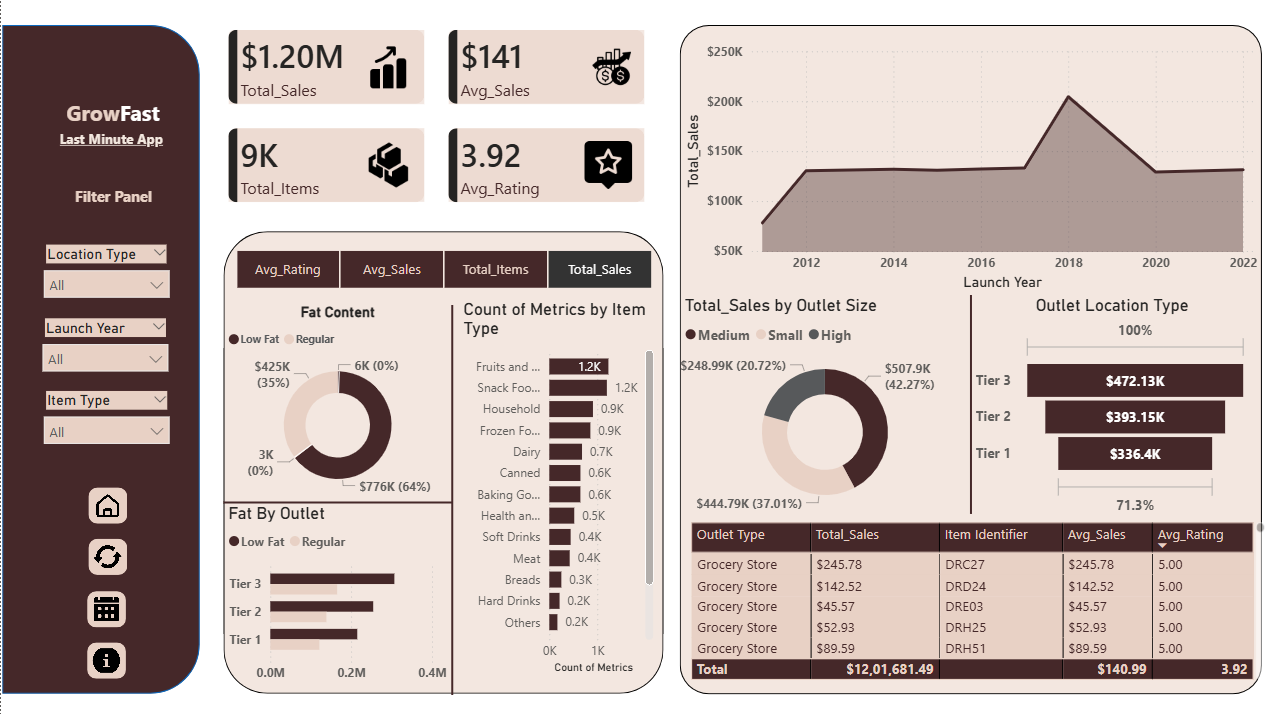

The dashboard page shown, as its layout file describes it:
{"tool":"powerbi","page":{"name":"Page 1","canvas":[1280,720],"ordinal":0},"visuals":[{"type":"shape","box":[1.2,25,197.5,668.8],"z":0},{"type":"shape","box":[679.2,24.9,582.2,669.3],"z":2000},{"type":"textbox","box":[53.5,91.9,116.6,57.6],"z":3000},{"type":"textbox","box":[53.5,124.9,129,49.4],"z":4000},{"type":"textbox","box":[56.3,181.1,112.5,49.4],"z":5000},{"type":"slicer","fields":{"Values":["Grofast.Location Type"]},"box":[32.5,240,146,64],"z":6000},{"type":"shape","box":[222.5,231.2,440,462.5],"z":7000},{"type":"actionButton","box":[87.5,538.8,38.8,36.2],"z":8000},{"type":"slicer","fields":{"Values":["Grofast.Launch Year"]},"box":[31.2,313.8,146.2,63.8],"z":9000},{"type":"slicer","fields":{"Values":["Grofast.Item Type"]},"box":[32.5,386.2,146.2,63.8],"z":10000},{"type":"actionButton","box":[86.2,591.2,38.8,36.2],"z":11000},{"type":"actionButton","box":[86.2,642.5,38.8,36.2],"z":12000},{"type":"cardVisual","fields":{"Data":["Measure_Table.Total_Sales","Measure_Table.Avg_Sales","Measure_Table.Total_Items","Measure_Table.Avg_Rating"]},"box":[222.7,24.9,451.6,206.5],"z":13000},{"type":"donutChart","title":"Fat Content","fields":{"Y":["CountNonNull(Grofast.Item Fat Content)","Measure_Table.Total_Sales"],"Category":["Grofast.Item Fat Content"]},"box":[222.5,303.8,228.8,198.8],"z":14000},{"type":"shape","box":[222.5,487.5,228.8,30],"z":15000},{"type":"shape","box":[445,305,12.5,390],"z":16000},{"type":"barChart","fields":{"Y":["CountNonNull(Grofast.Item Type)"],"Category":["Grofast.Item Type"]},"box":[457.5,298.8,200,380],"z":17000},{"type":"areaChart","title":"Outlet Establishment Year","fields":{"Category":["Grofast.Launch Year"],"Y":["Measure_Table.Total_Sales"]},"box":[678.8,37.5,582.5,257.5],"z":18000},{"type":"donutChart","fields":{"Y":["Measure_Table.Total_Sales"],"Category":["Grofast.Outlet Size"]},"box":[679,295,290.8,225.4],"z":19000},{"type":"funnel","title":"Outlet Location Type","fields":{"Category":["Grofast.Location Type"],"Y":["Measure_Table.Total_Sales"]},"box":[970.3,294.8,282.4,225.2],"z":20000},{"type":"shape","box":[964.1,294.8,12.4,218.9],"z":21000},{"type":"tableEx","fields":{"Values":["Grofast.Outlet Type","Measure_Table.Total_Sales","Grofast.Item Identifier","Measure_Table.Avg_Sales","Measure_Table.Avg_Rating"]},"box":[683.8,517.5,585,167.5],"z":22000},{"type":"slicer","fields":{"Values":["Metrix.Metrix"]},"box":[210,243.8,463.8,51.2],"z":23000},{"type":"clusteredBarChart","title":"Fat By Outlet","fields":{"Category":["Grofast.Location Type"],"Y":["Sum(Grofast.Sales)"],"Series":["Grofast.Item Fat Content"]},"box":[222.5,502.5,228.8,188.8],"z":24000},{"type":"actionButton","box":[87.5,487.5,38.8,36.2],"z":25000}]}

Visuals, with their boxes in screenshot pixels (x1, y1, x2, y2), scaled from the page's 1280x720 canvas onto the 1280x714 screenshot:
shape: <region>1, 25, 199, 688</region>
shape: <region>679, 25, 1261, 688</region>
textbox: <region>54, 91, 170, 148</region>
textbox: <region>54, 124, 182, 173</region>
textbox: <region>56, 180, 169, 229</region>
slicer - Grofast.Location Type: <region>32, 238, 178, 301</region>
shape: <region>222, 229, 662, 688</region>
actionButton: <region>88, 534, 126, 570</region>
slicer - Grofast.Launch Year: <region>31, 311, 177, 374</region>
slicer - Grofast.Item Type: <region>32, 383, 179, 446</region>
actionButton: <region>86, 586, 125, 622</region>
actionButton: <region>86, 637, 125, 673</region>
cardVisual - Measure_Table.Total_Sales x Measure_Table.Avg_Sales: <region>223, 25, 674, 229</region>
"Fat Content" donutChart: <region>222, 301, 451, 498</region>
shape: <region>222, 483, 451, 513</region>
shape: <region>445, 302, 458, 689</region>
barChart - CountNonNull(Grofast.Item Type) x Grofast.Item Type: <region>458, 296, 658, 673</region>
"Outlet Establishment Year" areaChart: <region>679, 37, 1261, 293</region>
donutChart - Measure_Table.Total_Sales x Grofast.Outlet Size: <region>679, 293, 970, 516</region>
"Outlet Location Type" funnel: <region>970, 292, 1253, 516</region>
shape: <region>964, 292, 976, 509</region>
tableEx - Grofast.Outlet Type x Measure_Table.Total_Sales: <region>684, 513, 1269, 679</region>
slicer - Metrix.Metrix: <region>210, 242, 674, 293</region>
"Fat By Outlet" clusteredBarChart: <region>222, 498, 451, 686</region>
actionButton: <region>88, 483, 126, 519</region>
